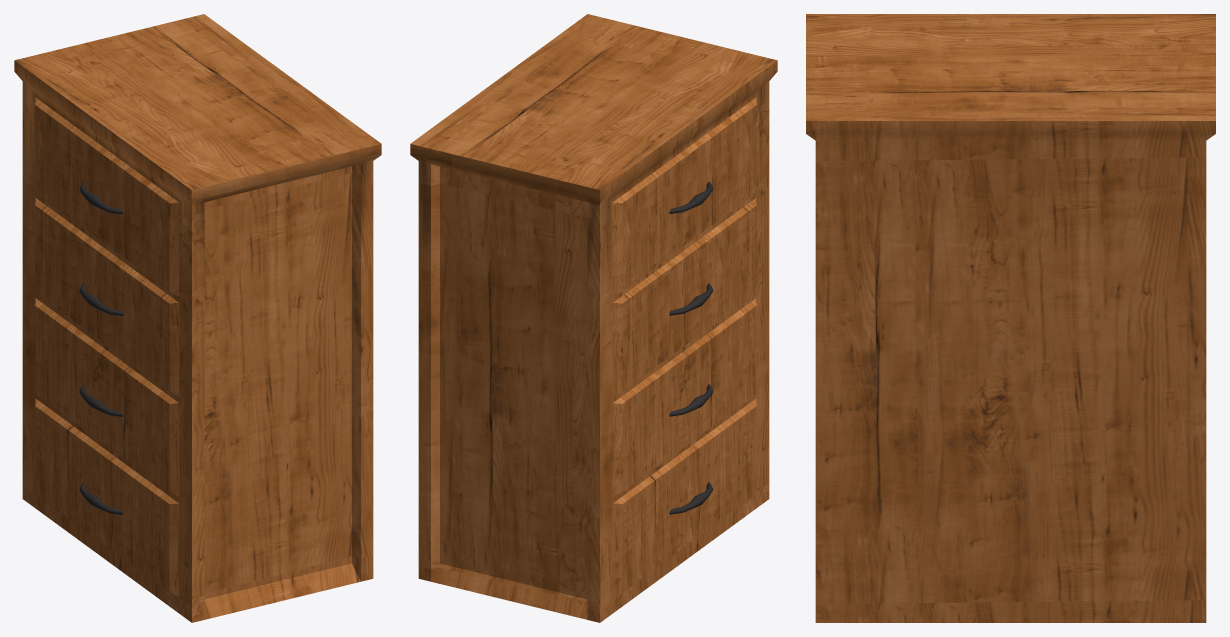
File: dresser.fbx
3 views of the same model, side by side, from view 1: azimuth 30°, elevation 25°; view 2: azimuth 150°, elevation 25°; view 3: azimuth 270°, elevation 25° (orthographic). The views are drawn at different scales.
Visible parts, largest first — view 1: dresser_handles:polySurface2; view 2: dresser_handles:polySurface2; view 3: dresser_handles:polySurface2.
Boxes of the visible parts, x1,y1,x2,y2 form: dresser_handles:polySurface2: (14, 14, 381, 622); dresser_handles:polySurface2: (410, 14, 777, 622); dresser_handles:polySurface2: (806, 14, 1215, 622).
Bounding box in the file's own units: 12.32 × 25.24 × 18.58.
Materials: 2 (1 with a texture image).
